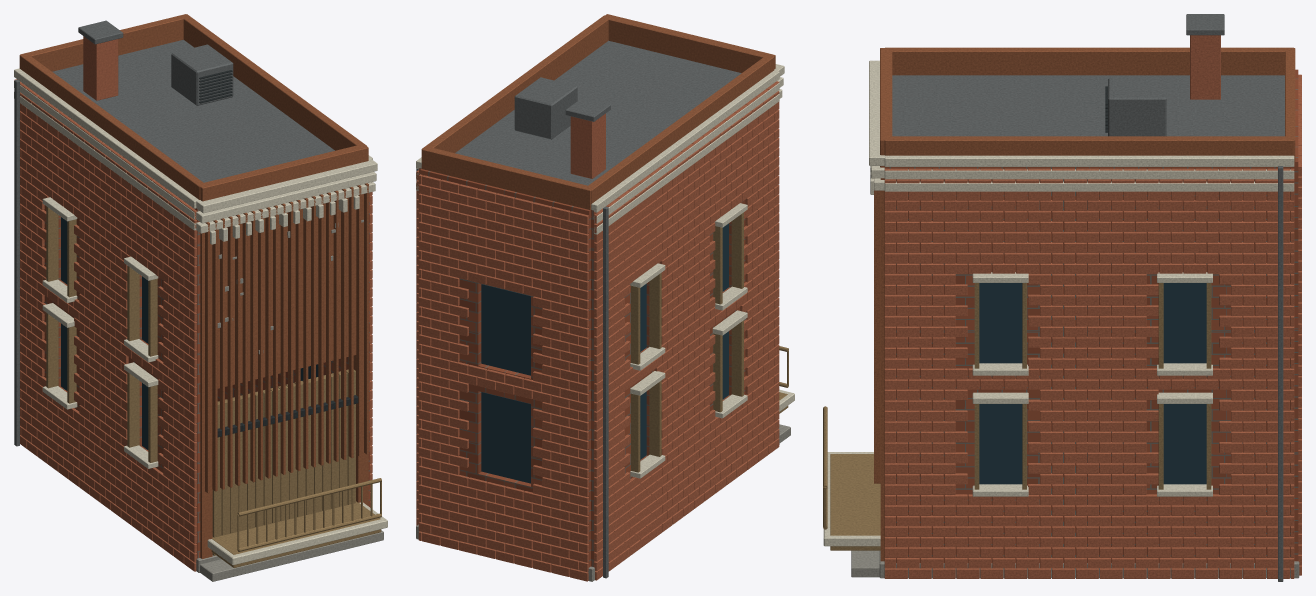
File: WHSE16_lod0.glb
3 views of the same model, side by side, from view 1: azimuth 30°, elevation 25°; view 2: azimuth 150°, elevation 25°; view 3: azimuth 270°, elevation 25° (orthographic). The views are drawn at different scales.
Visible parts, largest first — view 1: WHSE16_LOD0; view 2: WHSE16_LOD0; view 3: WHSE16_LOD0.
Boxes of the visible parts, x1,y1,x2,y2 form: WHSE16_LOD0: [14, 14, 387, 581]; WHSE16_LOD0: [416, 14, 794, 581]; WHSE16_LOD0: [823, 14, 1301, 581].
Bounding box in the file's own units: 3.71 × 7.85 × 7.02.
Materials: 11 (10 with a texture image).
